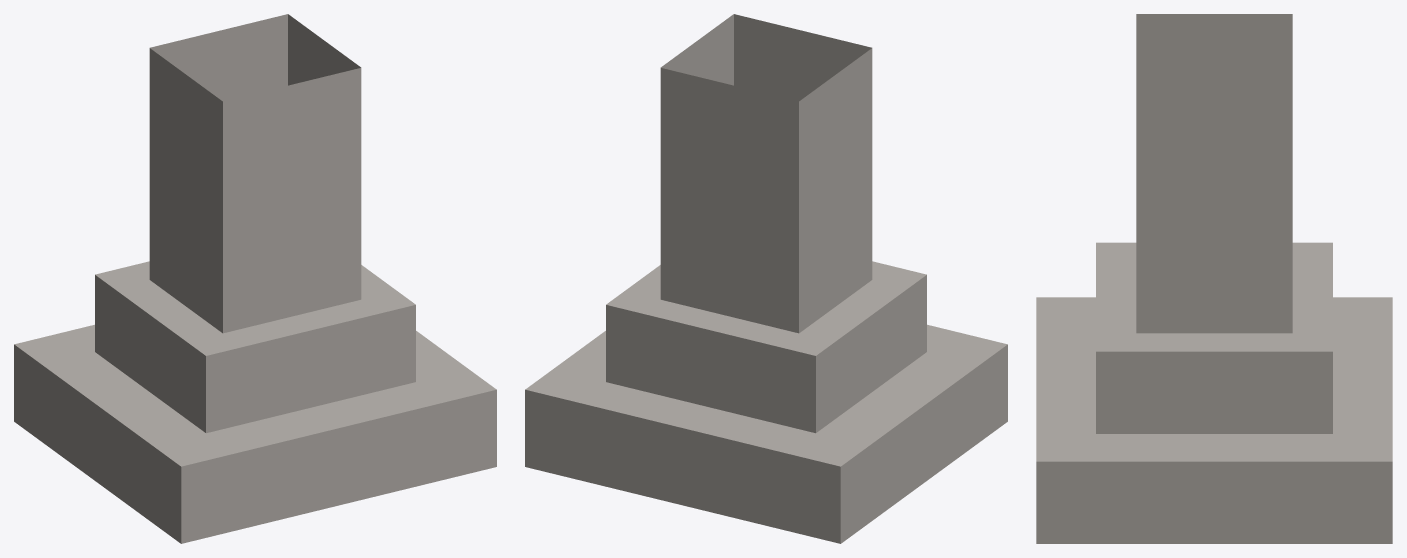
Rendered from SM_pillar_01_001.glb.
3 views of the same model, side by side, from view 1: azimuth 30°, elevation 25°; view 2: azimuth 150°, elevation 25°; view 3: azimuth 270°, elevation 25° (orthographic). The views are drawn at different scales.
Visible parts, largest first — view 1: SM_pillar_01.001; view 2: SM_pillar_01.001; view 3: SM_pillar_01.001.
Part boxes in pixels (x1=…): SM_pillar_01.001: x1=14, y1=14, x2=496, y2=543; SM_pillar_01.001: x1=525, y1=14, x2=1007, y2=543; SM_pillar_01.001: x1=1036, y1=14, x2=1392, y2=543.
Size of the model in its own units: 0.8545 by 1 by 0.7834.
1 material, 1 textured.
